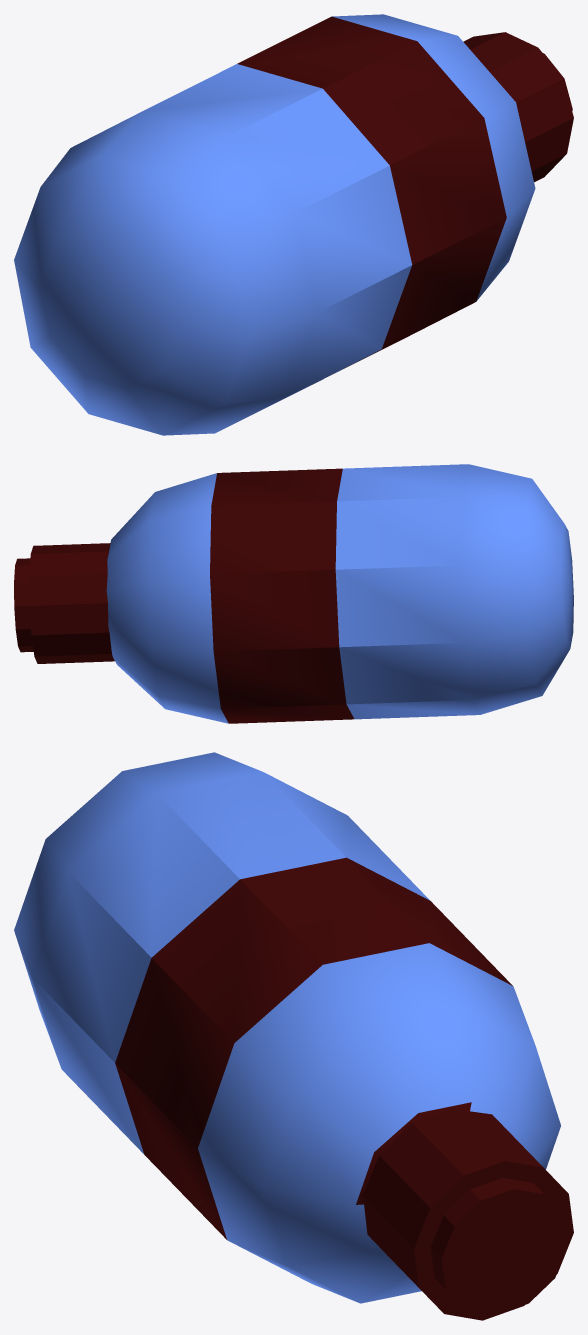
Rendered from bottle2.obj.
3 renders of one model, top to bottom at view 1: azimuth 30°, elevation 25°; view 2: azimuth 150°, elevation 25°; view 3: azimuth 270°, elevation 25°, orthographic. The views are drawn at different scales.
Visible parts, largest first — view 1: polySurface516; view 2: polySurface516; view 3: polySurface516.
Part boxes in pixels (x1,y1,x2,y2): polySurface516: (14, 14, 573, 435); polySurface516: (14, 464, 573, 723); polySurface516: (14, 752, 573, 1320).
Bounding box in the file's own units: 2.66 × 1.26 × 1.81.
